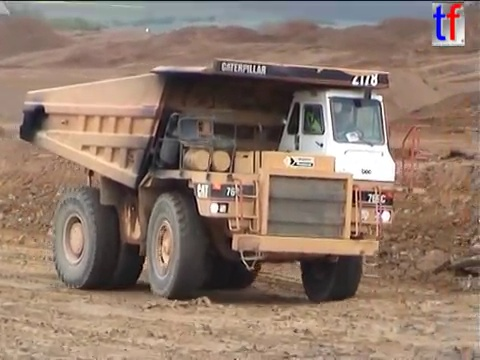truck: (16, 54, 421, 304)
